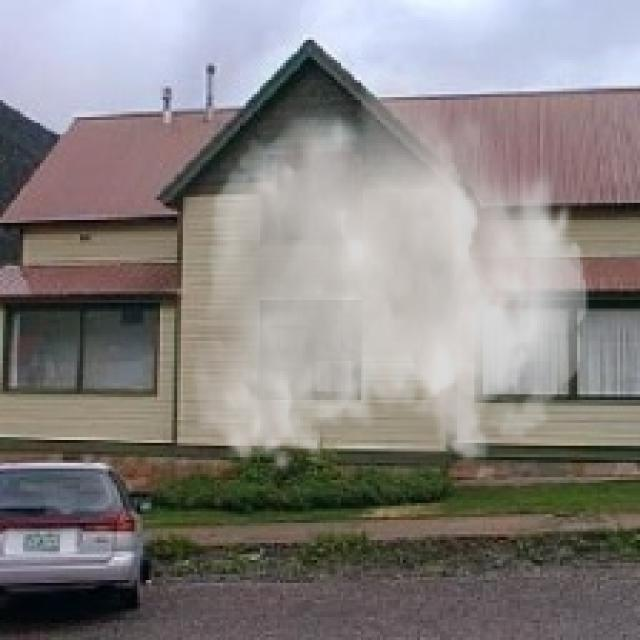Smoke: (192, 57, 588, 474)
